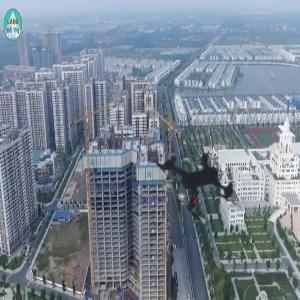drone: (123, 110, 271, 258)
